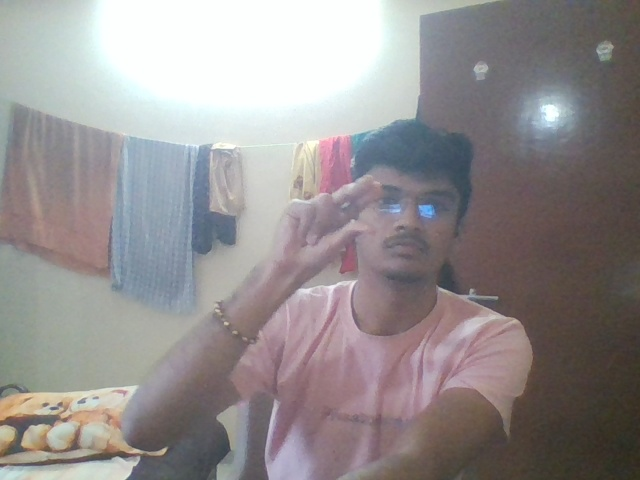no: (278, 172, 387, 274)
